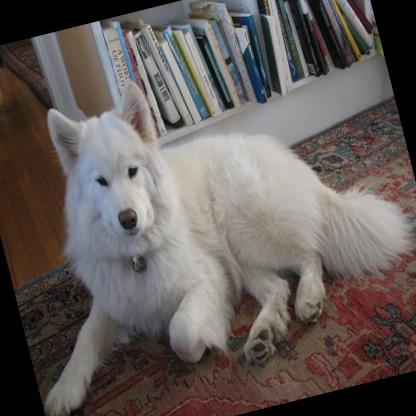Samoyed: (0, 20, 416, 416)
